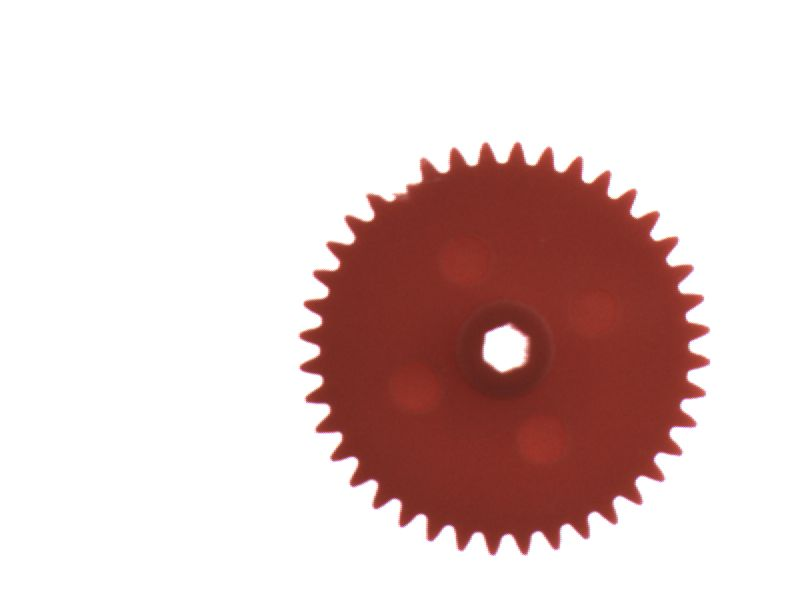defect_lack: (371, 160, 434, 208)
